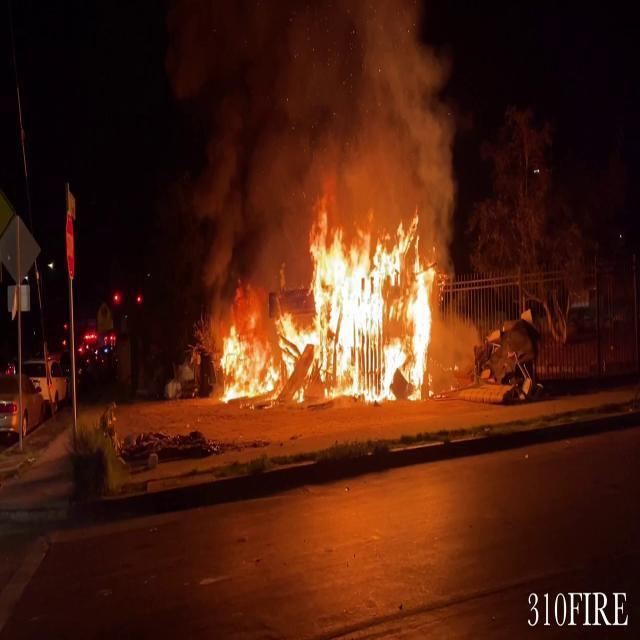Fire: (214, 198, 446, 409)
Smoke: (254, 1, 464, 224)
